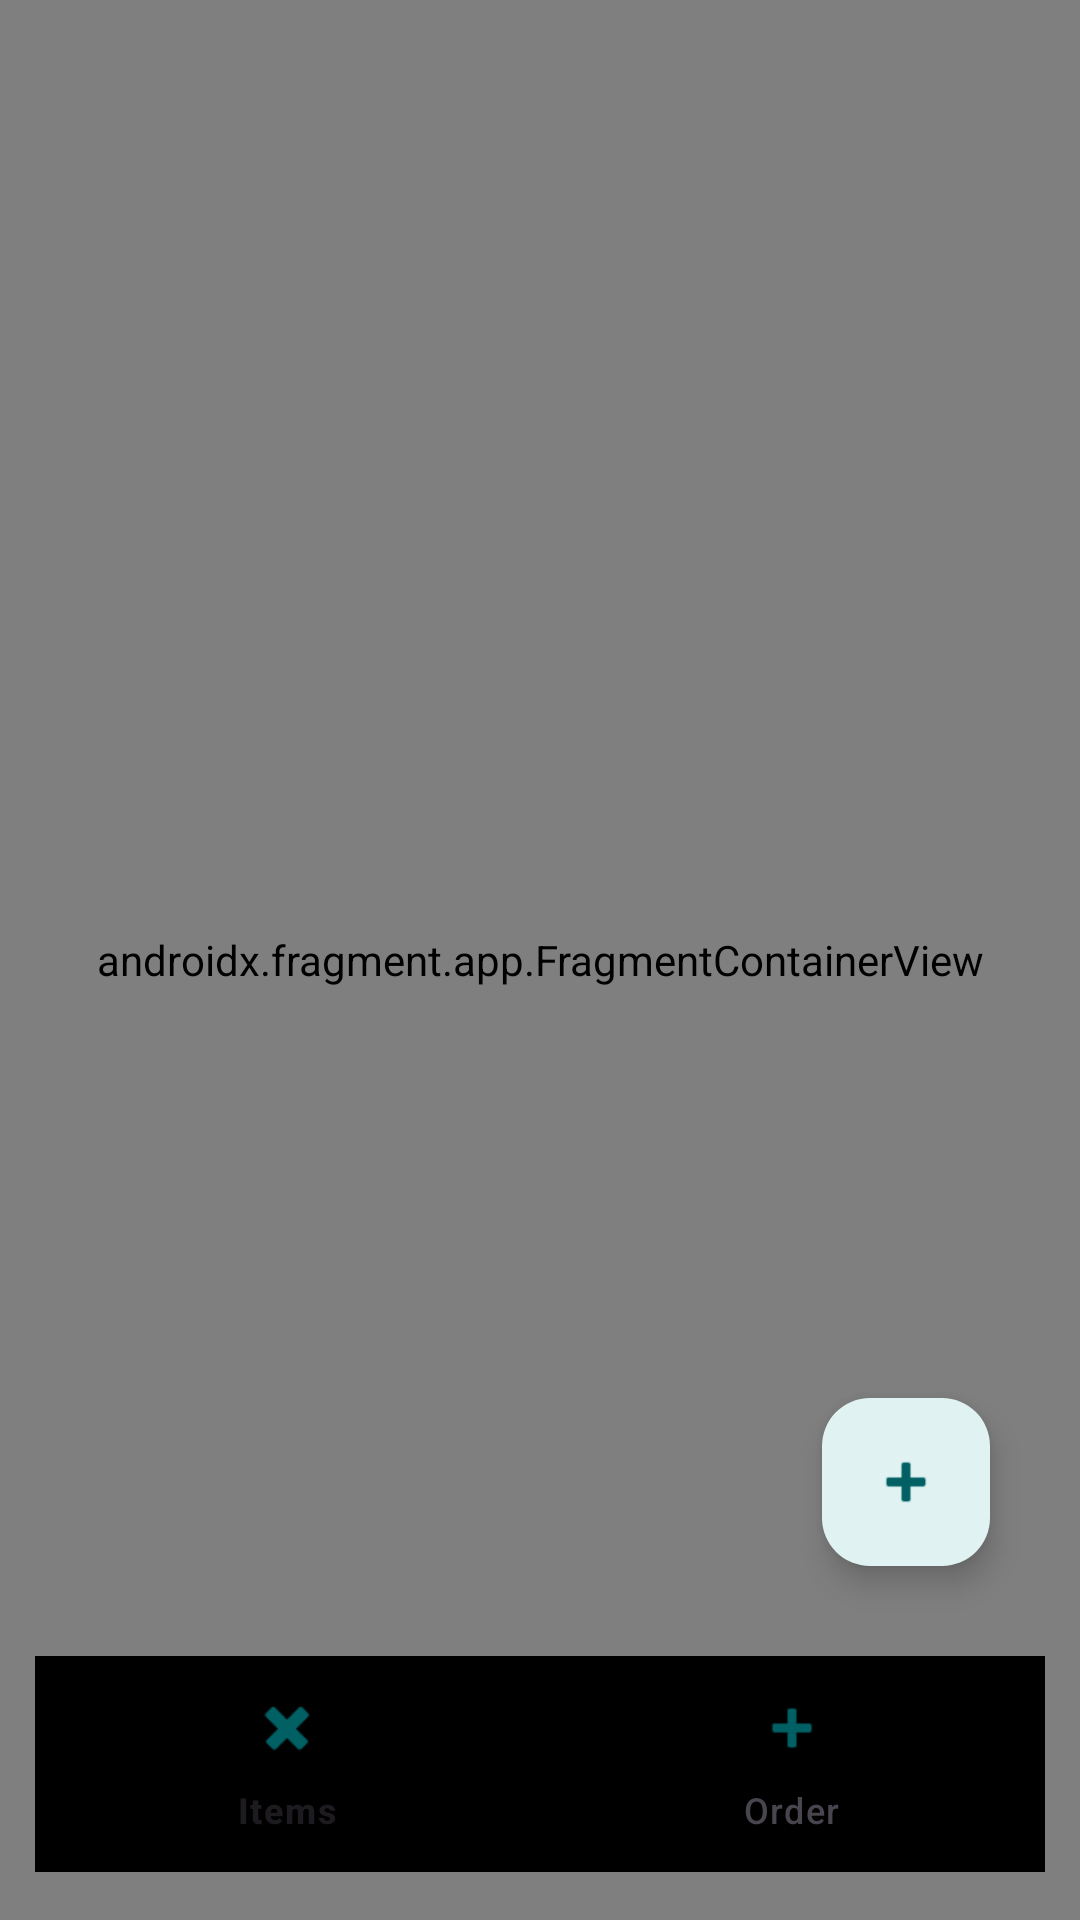

Icon bounding boxes for this 1080px×1920px phone screenshot, format (x1, y1, x2, y2):
Add Item: (822, 1398, 990, 1566)
